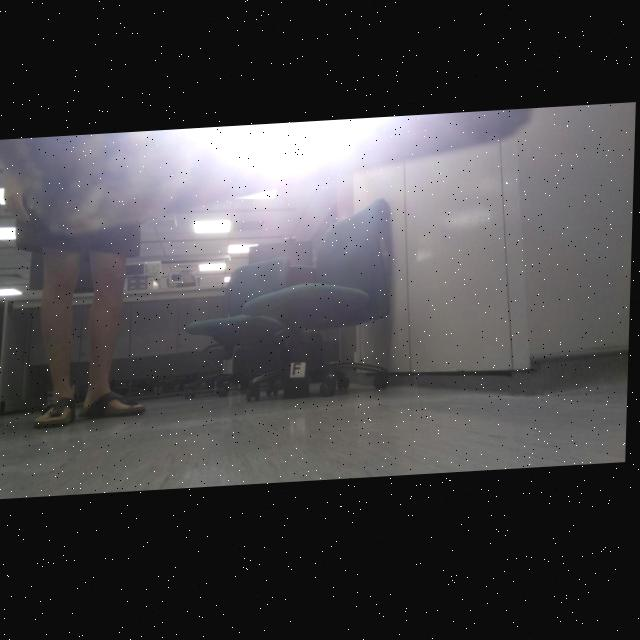F: (296, 368, 305, 380)
